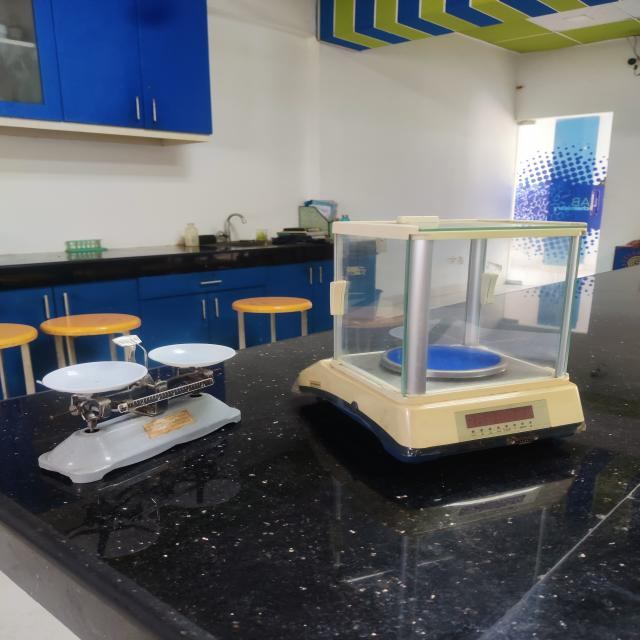Mechanical_Balance_Scale: (22, 320, 255, 520)
Precision_Weight_Scale: (282, 186, 615, 483)
